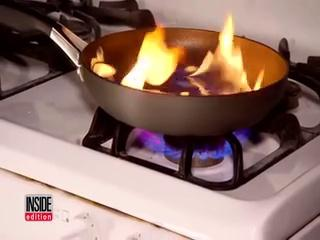Fire: (91, 18, 261, 102)
